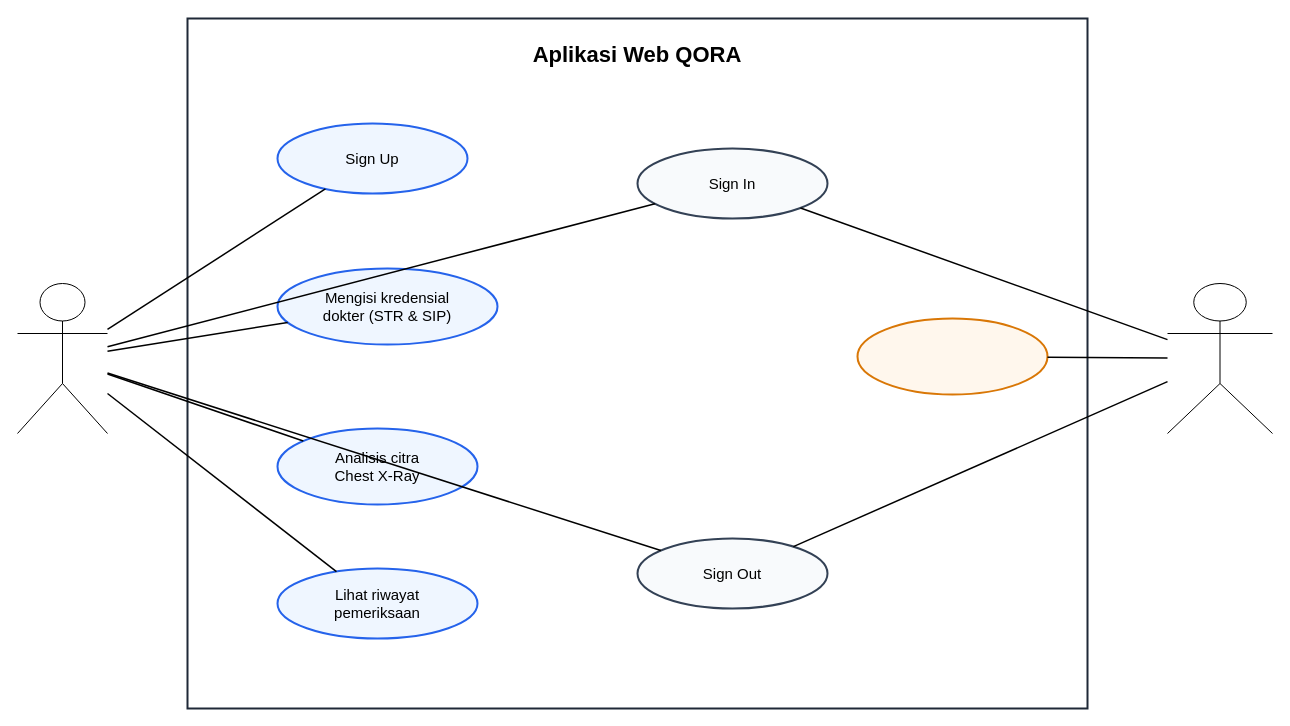
Some shapes in this 1290 by 726 pixel diagram are drawn without their labels. Here are the shapes that lost their labels. From the top down, the centre of each, then its label:
At pixel 62 358: "Dokter".
At pixel 952 356: "Kelola akun dokter".
At pixel 1219 358: "Administrator".
